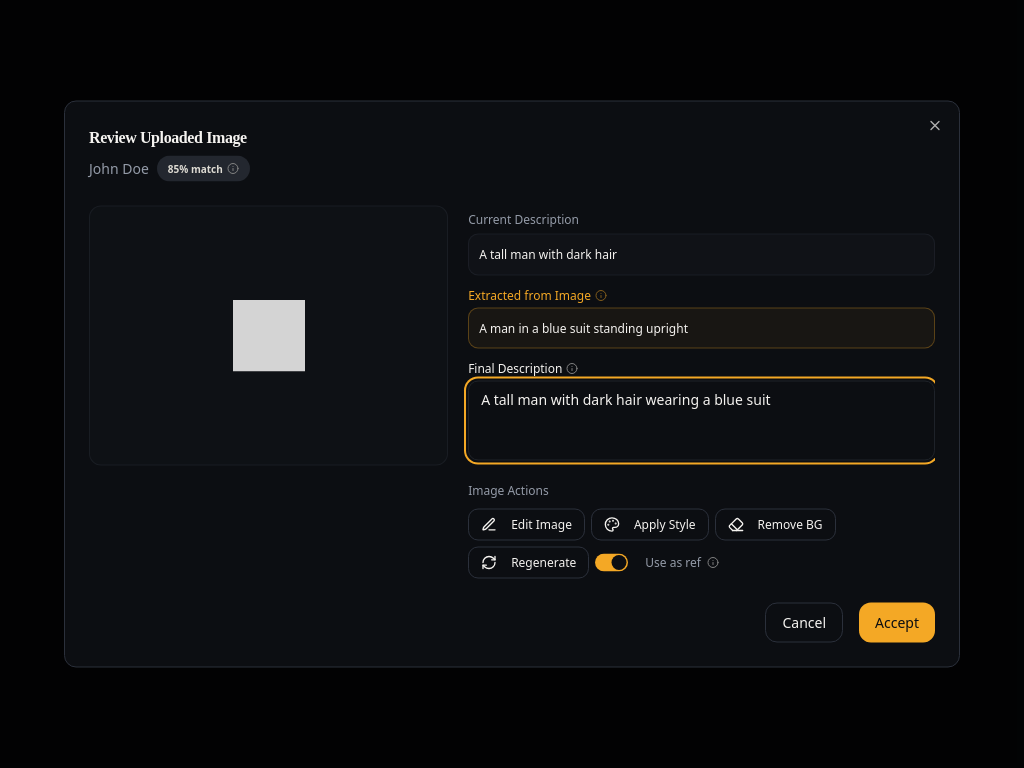
Test: EnhancedUploadModal › edit image input › should show edit input after clicking Edit Image
Click the button "Edit Image" at (526, 524), box [468,508,585,540]
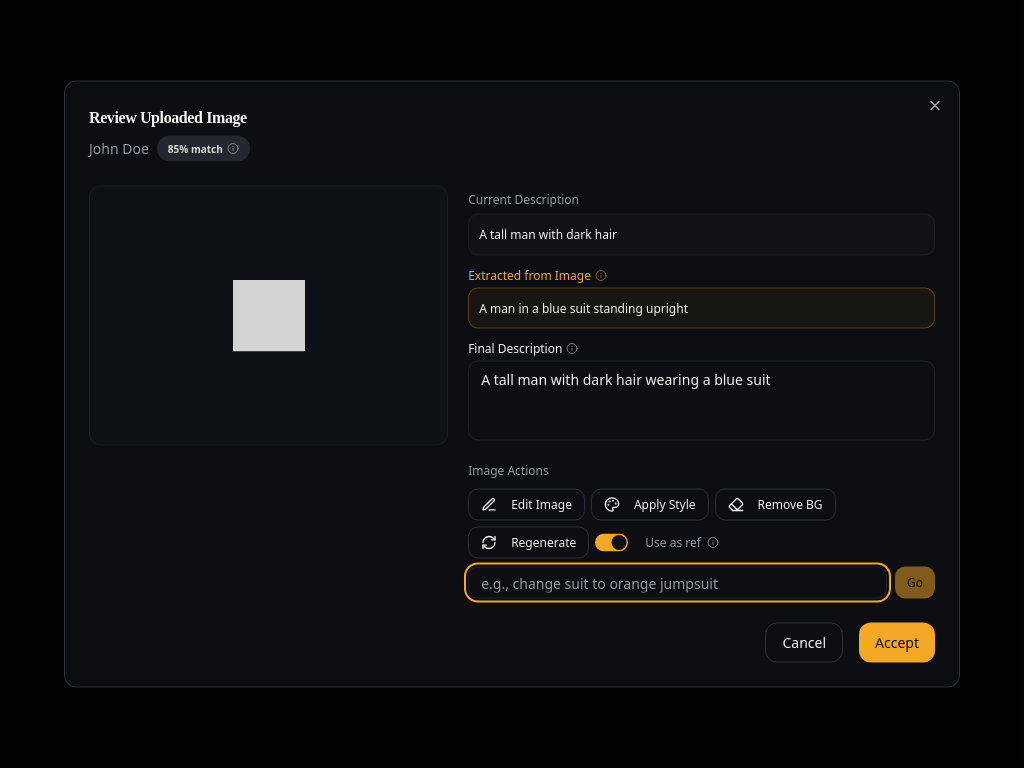
Result: the field with placeholder "e.g., change suit to orange jumpsuit" is shown at [468,566,887,598]
